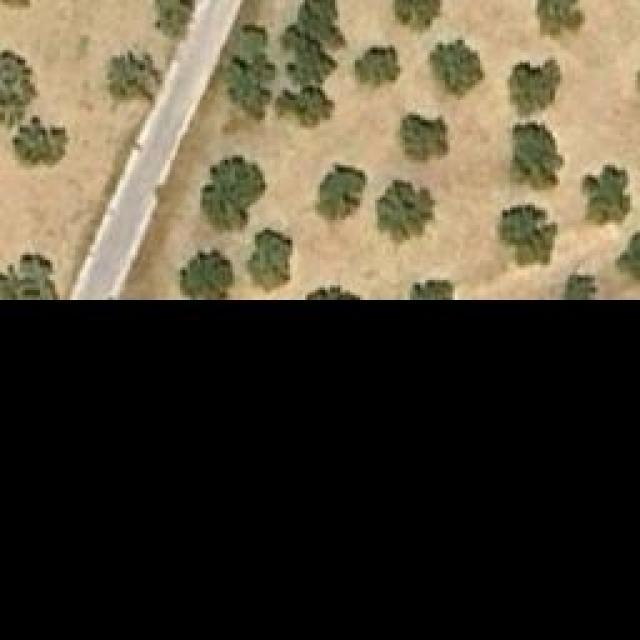Tree: (275, 0, 348, 128), (203, 155, 268, 233), (225, 25, 275, 120), (103, 50, 166, 110), (498, 200, 558, 263), (510, 122, 565, 190), (427, 40, 485, 103), (580, 163, 633, 228), (0, 48, 38, 131), (378, 180, 433, 235), (248, 228, 293, 293), (508, 60, 561, 115), (13, 118, 68, 171), (318, 165, 368, 220), (0, 253, 58, 298), (180, 253, 235, 298), (355, 48, 400, 93), (403, 115, 448, 160), (538, 0, 583, 35), (615, 227, 640, 285), (155, 0, 193, 38), (395, 0, 440, 25), (563, 273, 598, 298), (408, 280, 453, 298)
